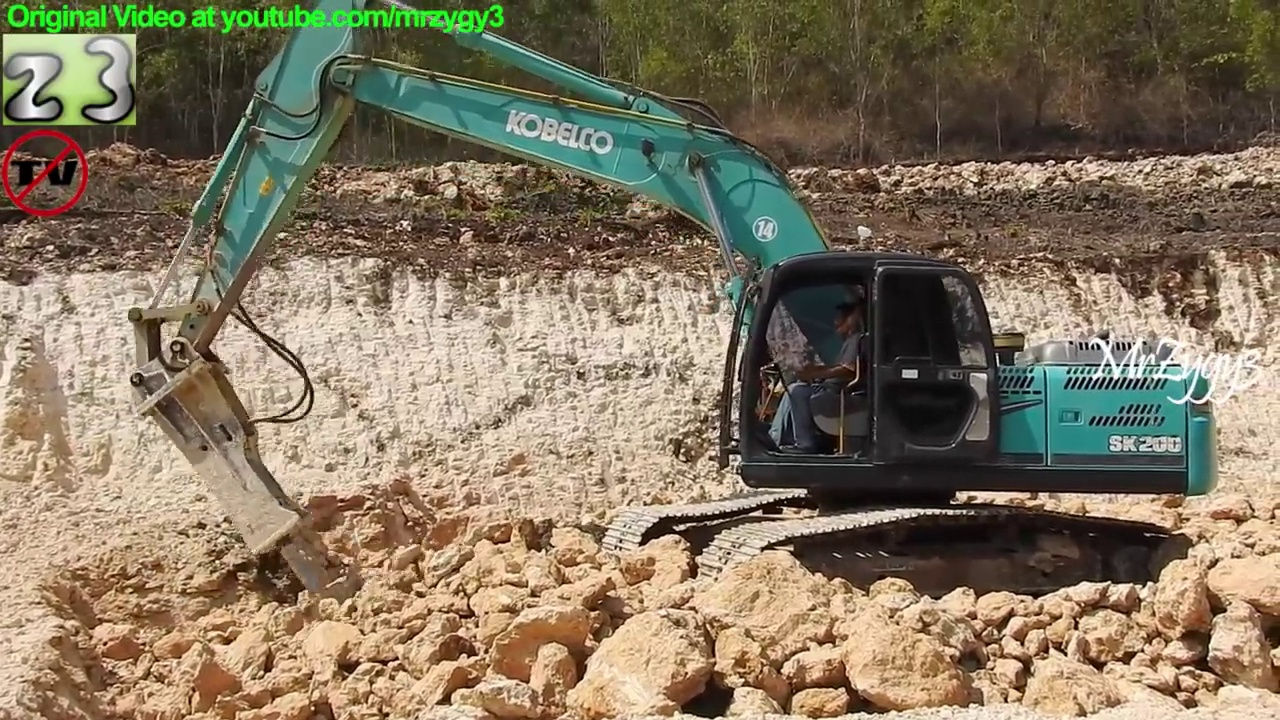excavator breaker: (124, 9, 1226, 619)
